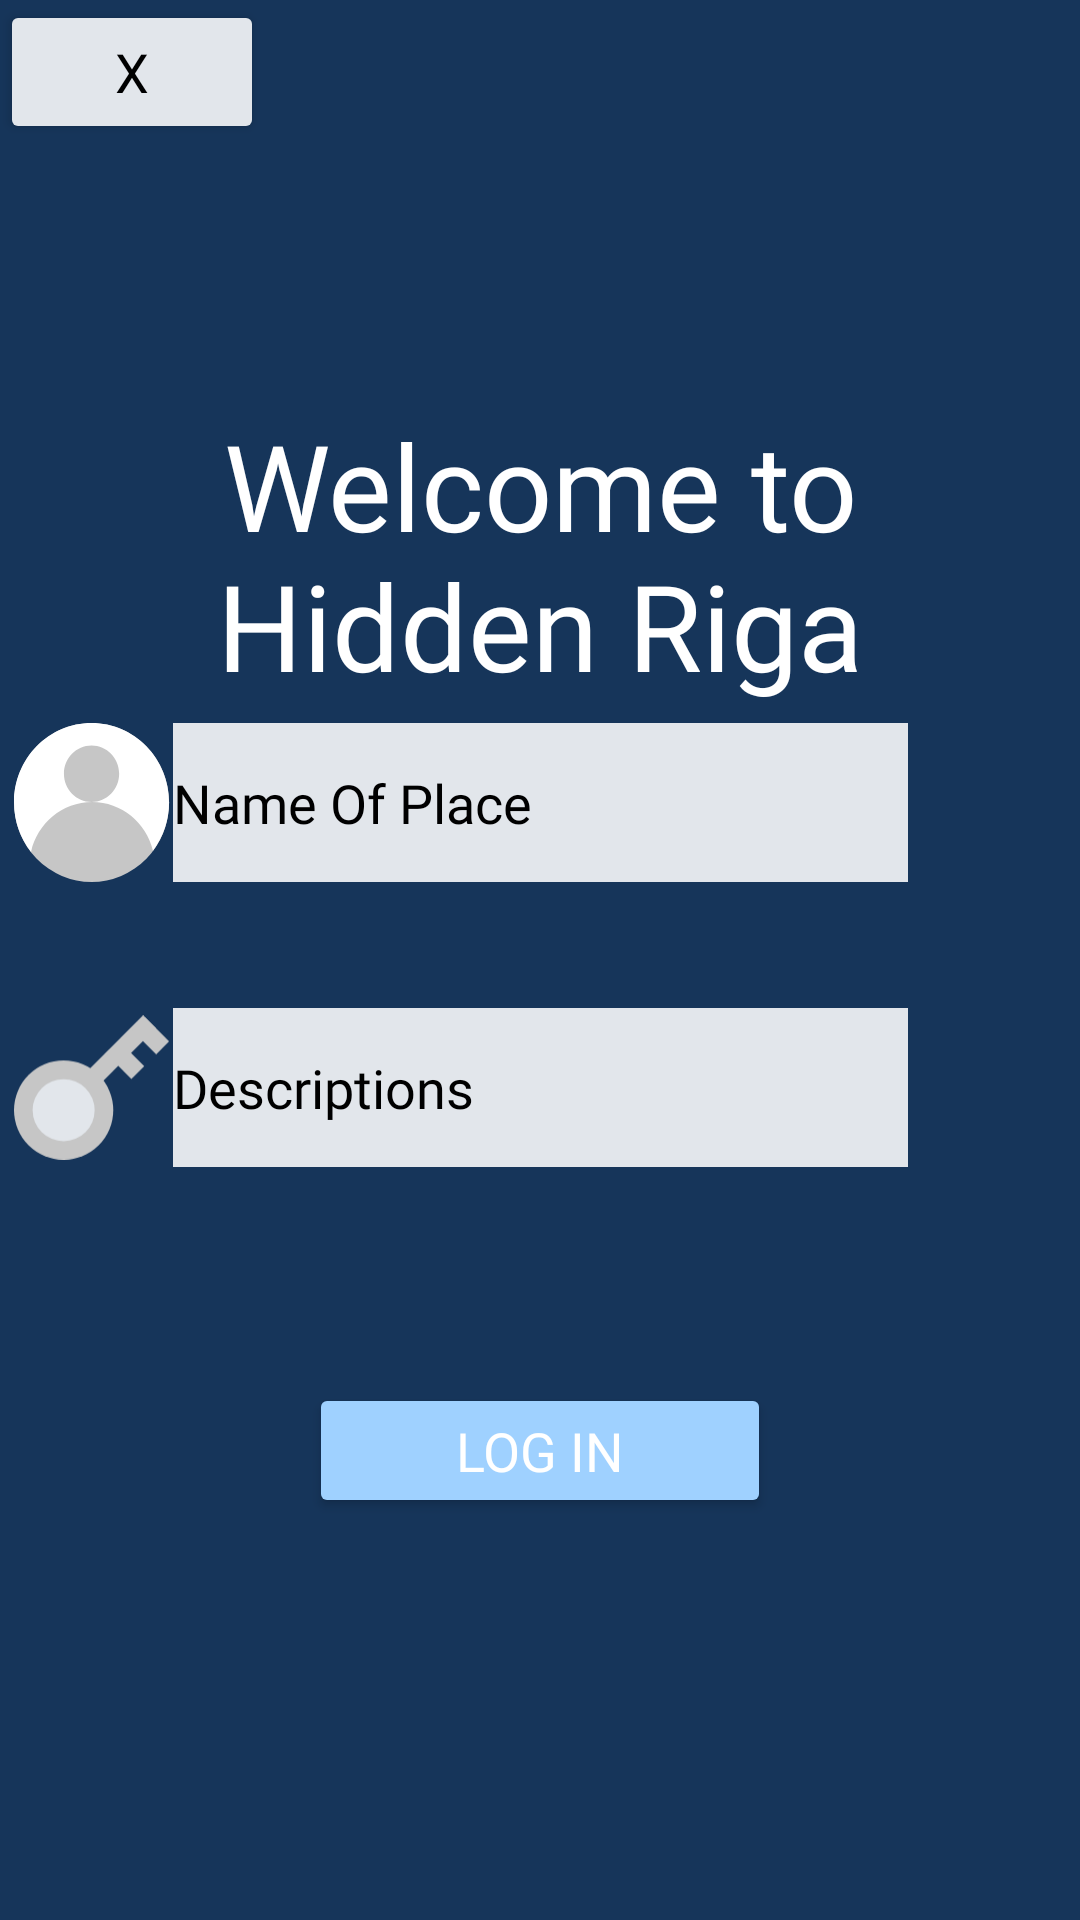

Icons on this 1080 x 1920 Android screen, each with the point to tap as (x,y):
passwordsfield: (91,1087)
usernamefield: (92,802)
